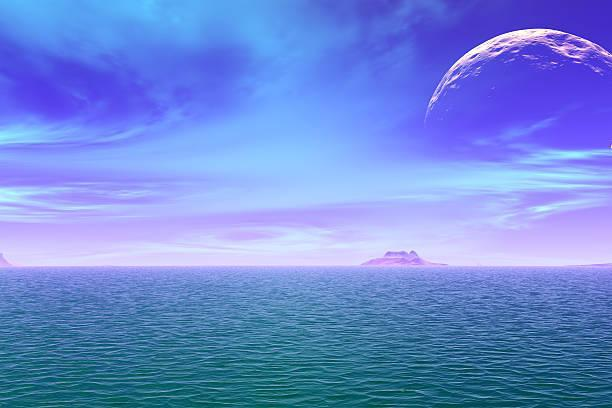moon: (390, 15, 612, 147)
